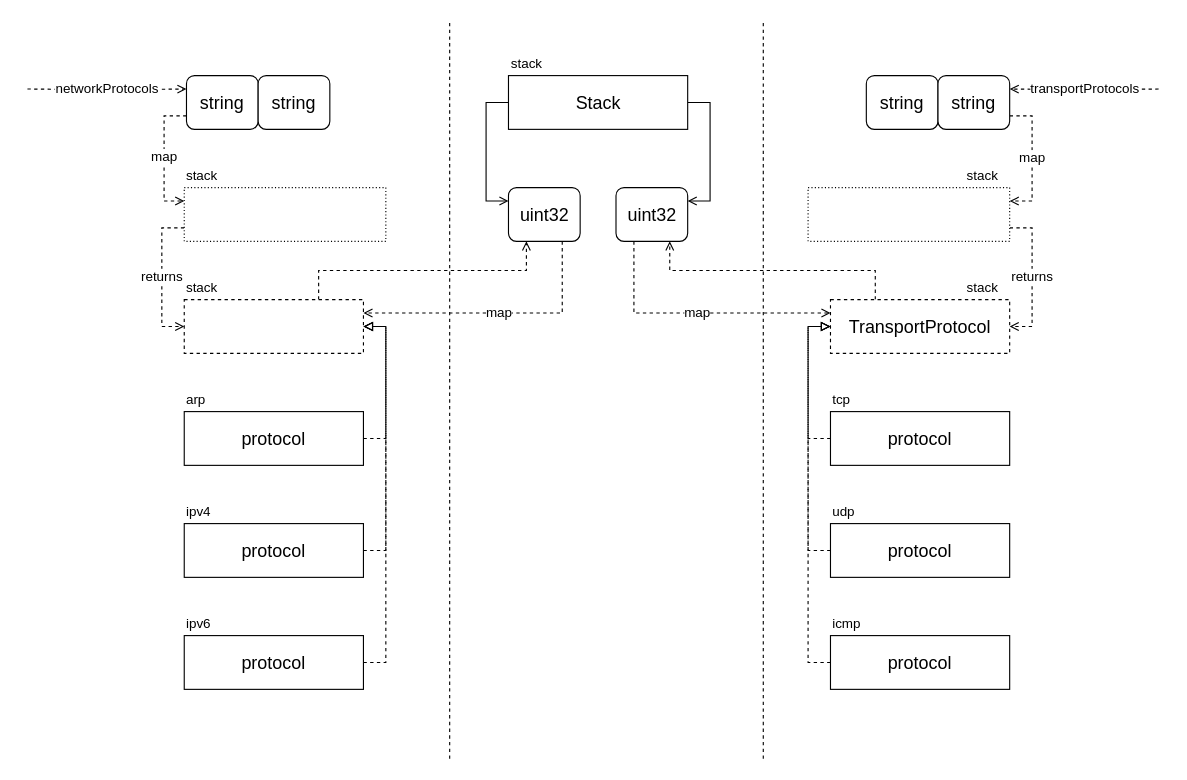
This 1187x780 diagram has some shape labels left out. Here are the shapes that lost their labels. From the top down, the centre of each, then its label:
At [284,213]: "NetworkProtocolFactory".
At [908,213]: "TransportProtocolFactory".
At [273,325]: "NetworkProtocol".
